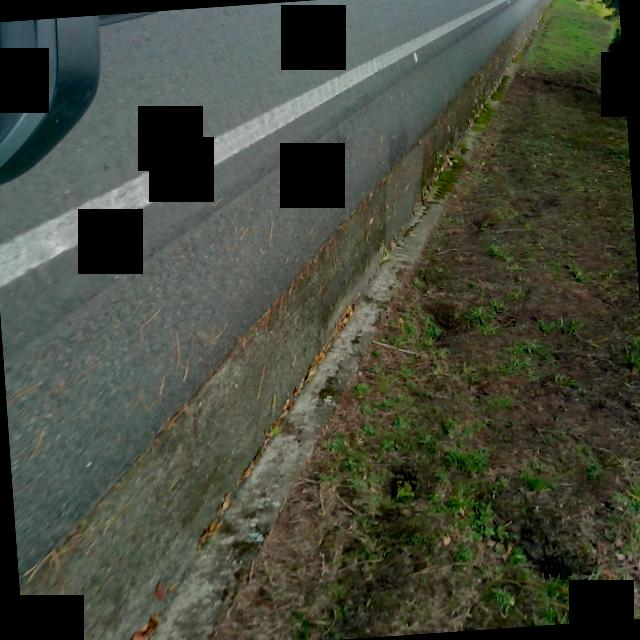DITCH: (0, 0, 608, 640), (0, 0, 551, 640)
